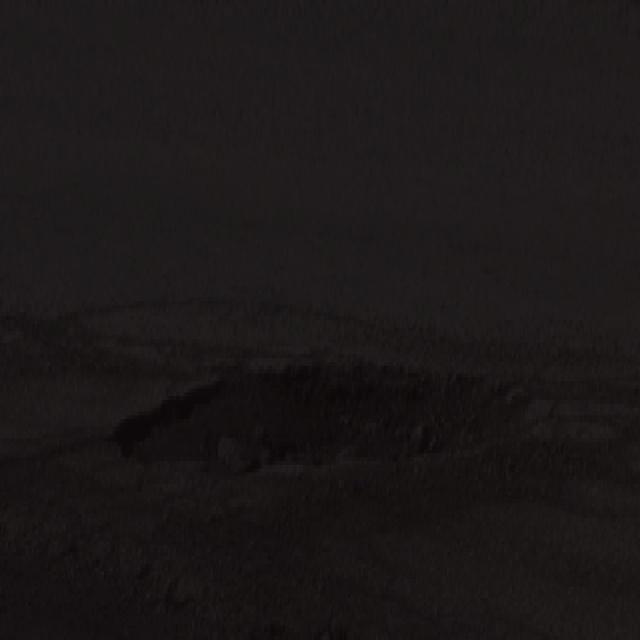Pothole: (104, 362, 535, 478)
